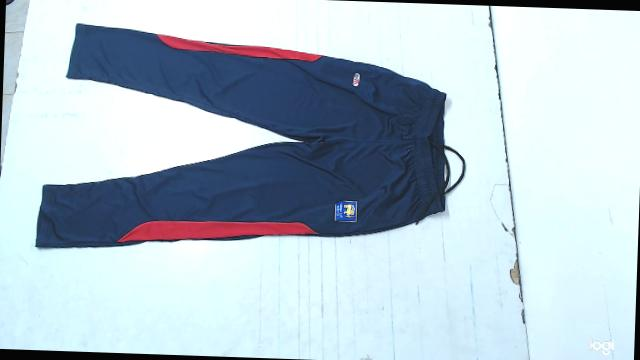new-garment: (36, 24, 462, 247)
